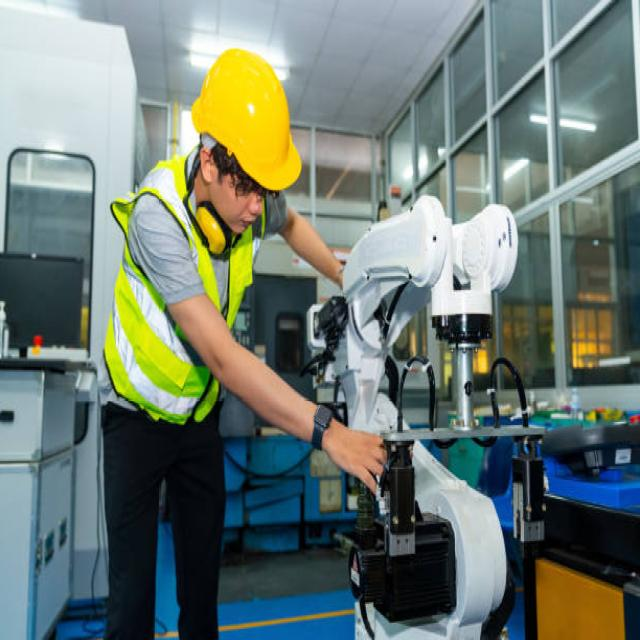Robotic-arm: (326, 198, 519, 640)
